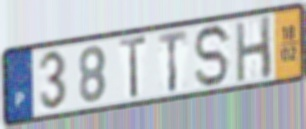3: (37, 48, 69, 113)
8: (77, 44, 109, 105)
H: (233, 13, 274, 85)
S: (192, 22, 233, 90)
T: (156, 28, 189, 95), (117, 34, 149, 102)
